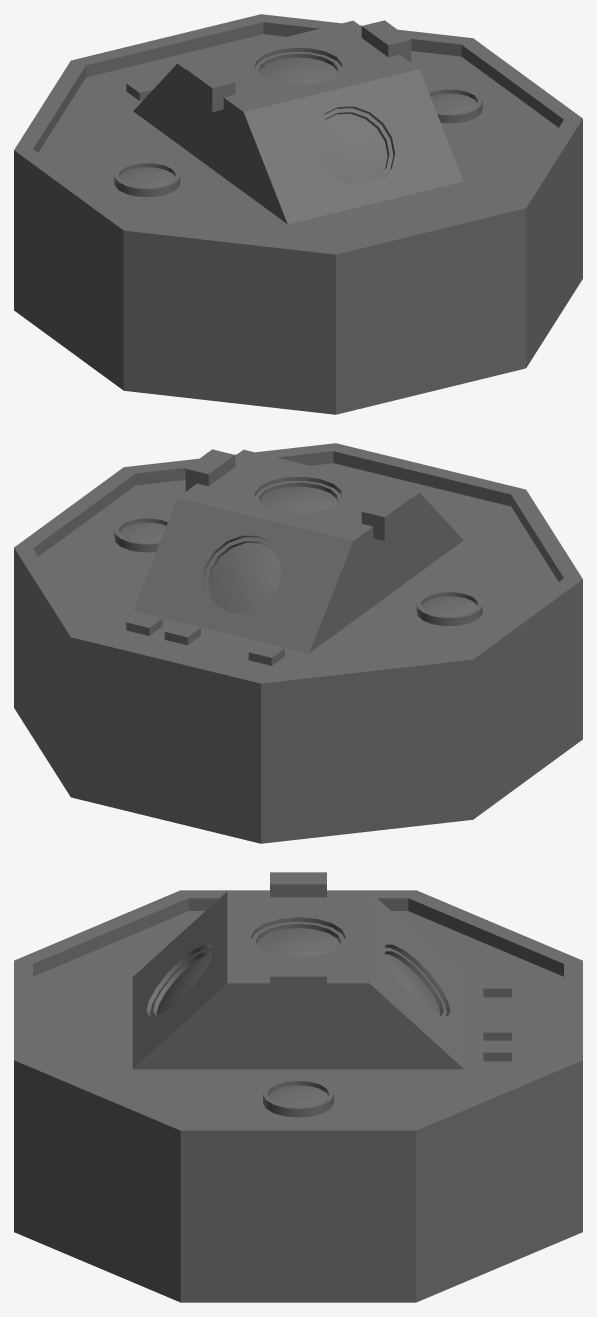
The model's file is nashira_cupola_s1_1.obj.
The picture shows the model from 3 angles, top to bottom: view 1: azimuth 30°, elevation 25°; view 2: azimuth 150°, elevation 25°; view 3: azimuth 270°, elevation 25°; orthographic projection. The views are drawn at different scales.
Parts seen in each view (by area): view 1: 1, w1; view 2: 1, w1; view 3: 1, w1.
Part boxes in pixels (left/top/right/bottom): 1: left=14, top=14, right=582, bottom=414; w1: left=119, top=57, right=477, bottom=187; 1: left=14, top=443, right=582, bottom=843; w1: left=119, top=486, right=477, bottom=616; 1: left=14, top=872, right=582, bottom=1302; w1: left=156, top=928, right=440, bottom=1106.
Bounding box in the file's own units: 1.5 × 0.75 × 1.5.
Materials: 2 (2 with a texture image).
